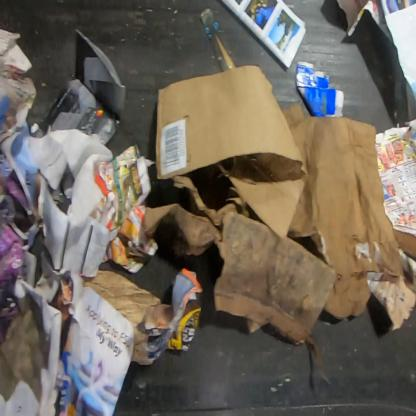cardboard: (143, 175, 337, 367), (282, 102, 415, 321), (155, 64, 309, 241), (82, 266, 204, 368), (367, 247, 415, 333), (296, 60, 346, 117)
rigid_plastic: (198, 7, 240, 71)
